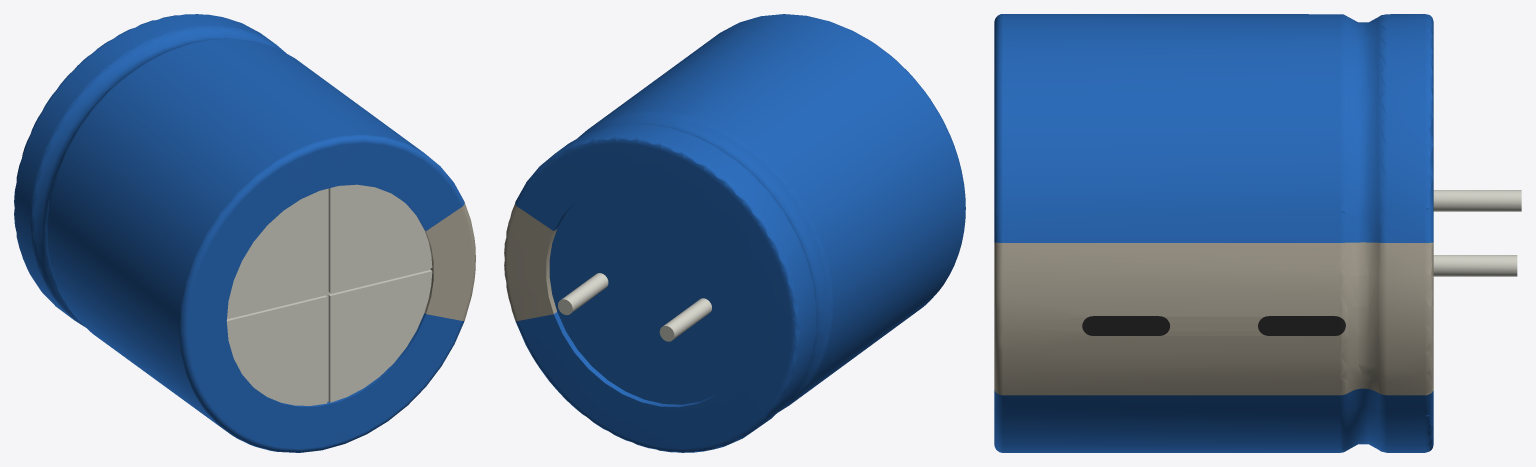
Rendered from cp-radial-d10.0-p3.50.glb.
3 renders of one model, left to right at view 1: azimuth 30°, elevation 25°; view 2: azimuth 150°, elevation 25°; view 3: azimuth 270°, elevation 25°, orthographic. The views are drawn at different scales.
Parts seen in each view (by area): view 1: PLASTIC-BLUE-01, PIN-01, IC-LABEL-01; view 2: PLASTIC-BLUE-01, IC-LABEL-01, PIN-01; view 3: PLASTIC-BLUE-01, IC-LABEL-01, PIN-01, IC-BODY-EPOXY-04.
Part boxes in pixels (left/top/right/bottom): PLASTIC-BLUE-01: left=14, top=14, right=464, bottom=452; PIN-01: left=226, top=184, right=432, bottom=405; IC-LABEL-01: left=424, top=203, right=475, bottom=320; PLASTIC-BLUE-01: left=515, top=14, right=965, bottom=452; IC-LABEL-01: left=504, top=203, right=556, bottom=321; PIN-01: left=561, top=273, right=711, bottom=339; PLASTIC-BLUE-01: left=994, top=14, right=1433, bottom=452; IC-LABEL-01: left=994, top=242, right=1433, bottom=395; PIN-01: left=1433, top=190, right=1521, bottom=276; IC-BODY-EPOXY-04: left=1082, top=316, right=1345, bottom=335.
Bounding box in the file's own units: 10 × 10 × 12.
